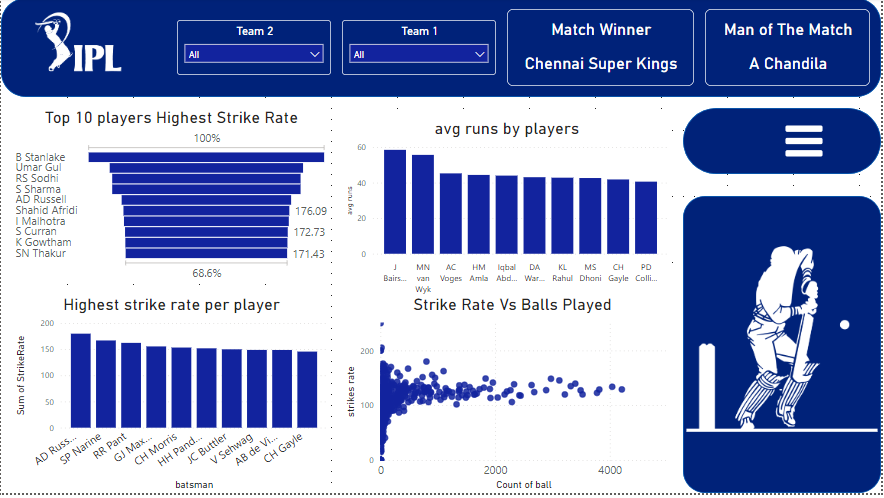

The page's visual inventory and layout, read from the dashboard file:
{"tool":"powerbi","page":{"name":"batsman","canvas":[1280,720],"ordinal":2},"visuals":[{"type":"shape","box":[992,288,288,432],"z":0},{"type":"shape","box":[0,0,1280,144],"z":1000},{"type":"image","box":[16,16,192,96],"z":2000},{"type":"slicer","title":"Team 2","fields":{"Values":["matches.team2"]},"box":[256,32,224,80],"z":3000},{"type":"slicer","title":"Team 1","fields":{"Values":["matches.team1"]},"box":[496,32,224,80],"z":4000},{"type":"card","title":"Man of The Match","fields":{"Values":["Min(matches.player_of_match)"]},"box":[1024,16,240,112],"z":5000},{"type":"card","title":"Match Winner","fields":{"Values":["Min(matches.winner)"]},"box":[736,16,272,112],"z":6000},{"type":"shape","box":[992,160,288,96],"z":7000},{"type":"columnChart","fields":{"Y":["All Measures.avg runs"],"Category":["player-dismissed.player_dismissed"]},"box":[496,176,480,272],"z":8000},{"type":"funnel","title":"Top 10 players Highest Strike Rate","fields":{"Category":["deliverydf.batsman"],"Y":["All Measures.strikes rate"]},"box":[16,160,464,256],"z":9000},{"type":"scatterChart","title":"Strike Rate Vs Balls Played","fields":{"X":["CountNonNull(deliverydf.ball)"],"Y":["All Measures.strikes rate"],"Category":["deliverydf.batsman"]},"box":[496,432,496,288],"z":10000},{"type":"image","box":[992,288,288,416],"z":11000},{"type":"columnChart","title":"Highest strike rate per player","fields":{"Category":["highest-strike-player.batsman"],"Y":["Sum(highest-strike-player.StrikeRate)"]},"box":[16,432,464,288],"z":12000},{"type":"image","box":[1136,176,64,64],"z":13000}]}

Visuals, with their boxes in screenshot pixels (x1, y1, x2, y2), scaled from the page's 1280x720 canvas onto the 884x498 screenshot:
shape: (left=685, top=199, right=883, bottom=497)
shape: (left=0, top=0, right=883, bottom=100)
image: (left=11, top=11, right=144, bottom=77)
"Team 2" slicer: (left=177, top=22, right=332, bottom=77)
"Team 1" slicer: (left=343, top=22, right=497, bottom=77)
"Man of The Match" card: (left=707, top=11, right=873, bottom=89)
"Match Winner" card: (left=508, top=11, right=696, bottom=89)
shape: (left=685, top=111, right=883, bottom=177)
columnChart - All Measures.avg runs x player-dismissed.player_dismissed: (left=343, top=122, right=674, bottom=310)
"Top 10 players Highest Strike Rate" funnel: (left=11, top=111, right=332, bottom=288)
"Strike Rate Vs Balls Played" scatterChart: (left=343, top=299, right=685, bottom=497)
image: (left=685, top=199, right=883, bottom=487)
"Highest strike rate per player" columnChart: (left=11, top=299, right=332, bottom=497)
image: (left=785, top=122, right=829, bottom=166)
